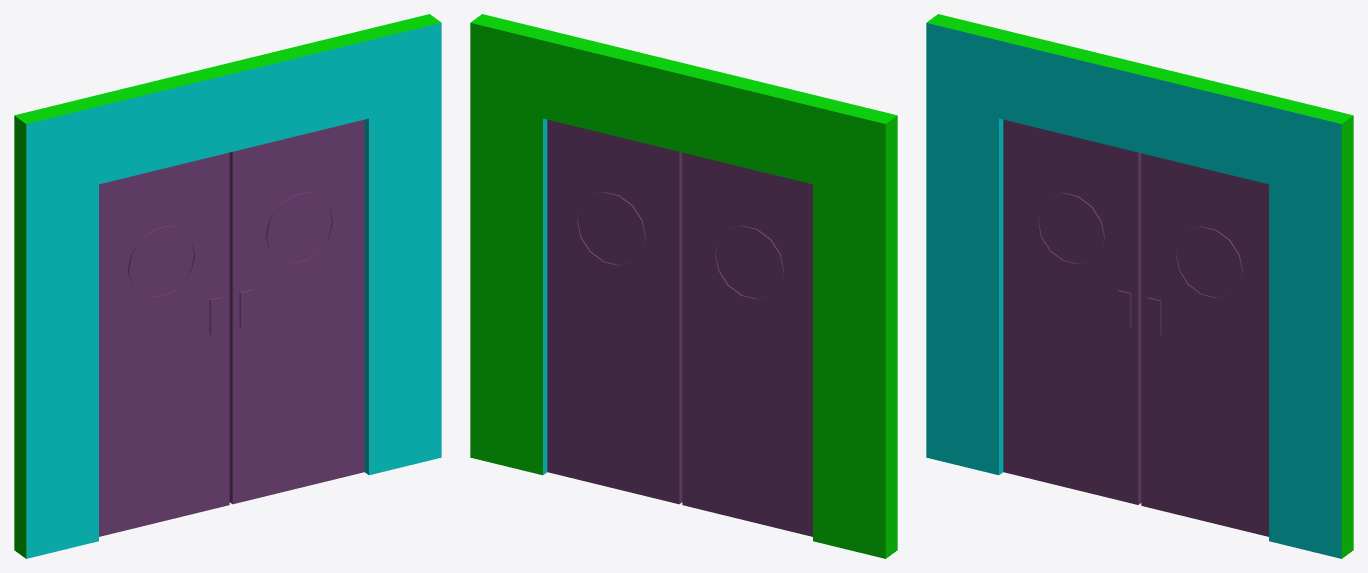
File: Porta.fbx
3 views of the same model, side by side, from view 1: azimuth 30°, elevation 25°; view 2: azimuth 150°, elevation 25°; view 3: azimuth 330°, elevation 25° (orthographic).
Parts seen in each view (by area): view 1: Porta; view 2: Porta; view 3: Porta.
Part boxes in pixels (box(x1,y1,x2,y2)): Porta: box(14, 14, 441, 558); Porta: box(470, 14, 897, 558); Porta: box(926, 14, 1353, 558).
Bounding box in the file's own units: 400 × 400 × 20.
